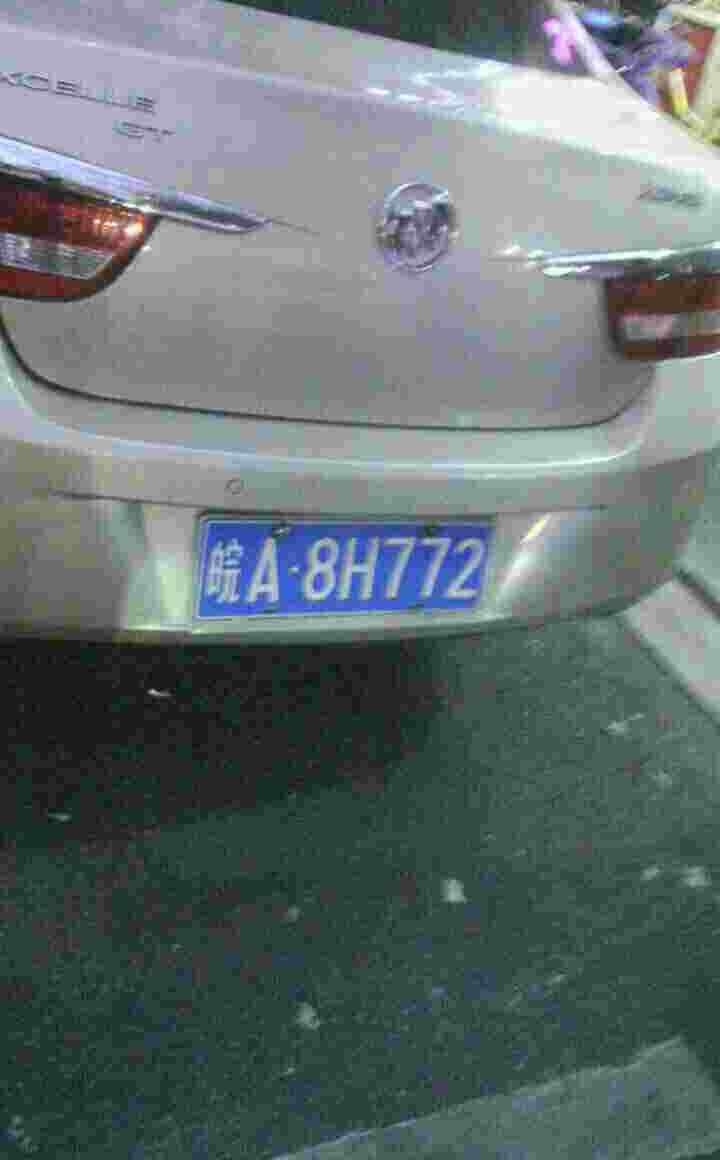car: (191, 513, 496, 620)
